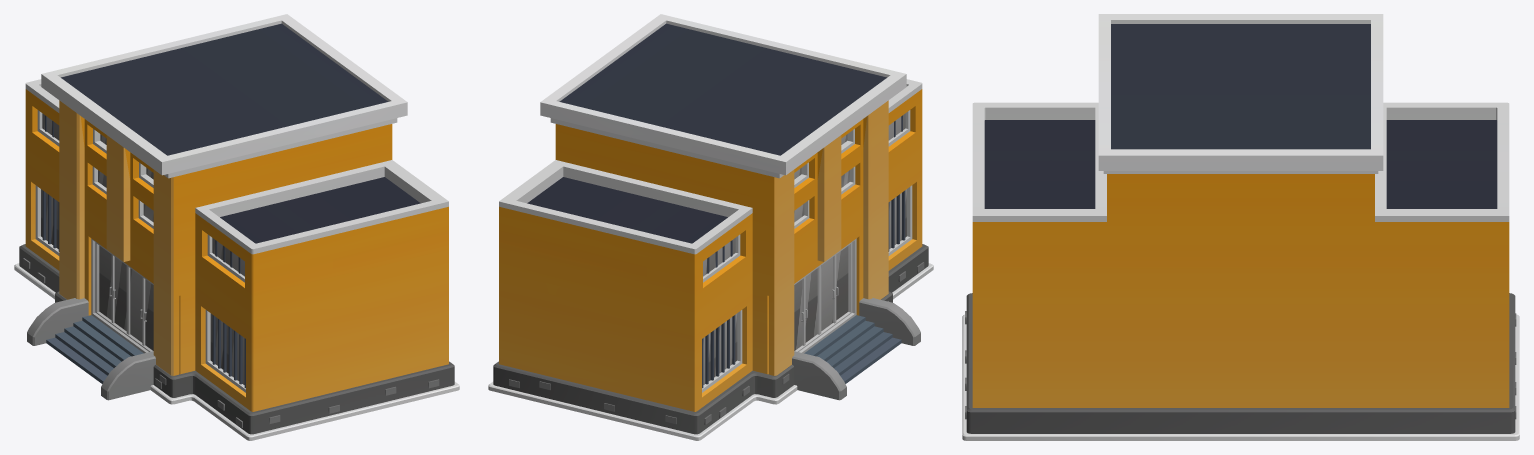
The model's file is Building_14_D.fbx.
3 renders of one model, left to right at view 1: azimuth 30°, elevation 25°; view 2: azimuth 150°, elevation 25°; view 3: azimuth 270°, elevation 25°, orthographic. The views are drawn at different scales.
Visible parts, largest first — view 1: Building_14_D; view 2: Building_14_D; view 3: Building_14_D.
Part boxes in pixels (x1,y1,x2,y2): Building_14_D: [14, 14, 459, 440]; Building_14_D: [488, 14, 933, 440]; Building_14_D: [962, 14, 1519, 440].
Size of the model in its own units: 908 by 755 by 1325.
